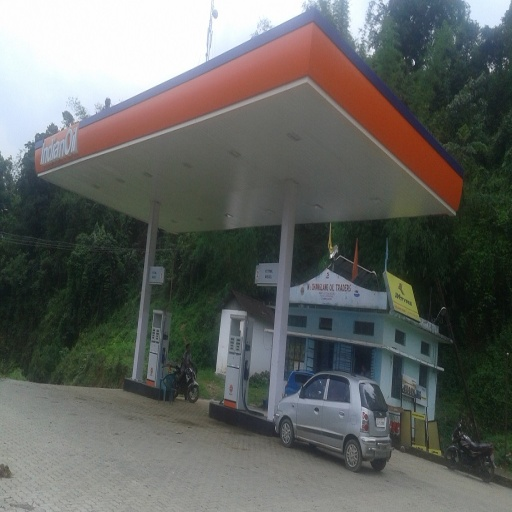roof: (34, 13, 456, 225)
